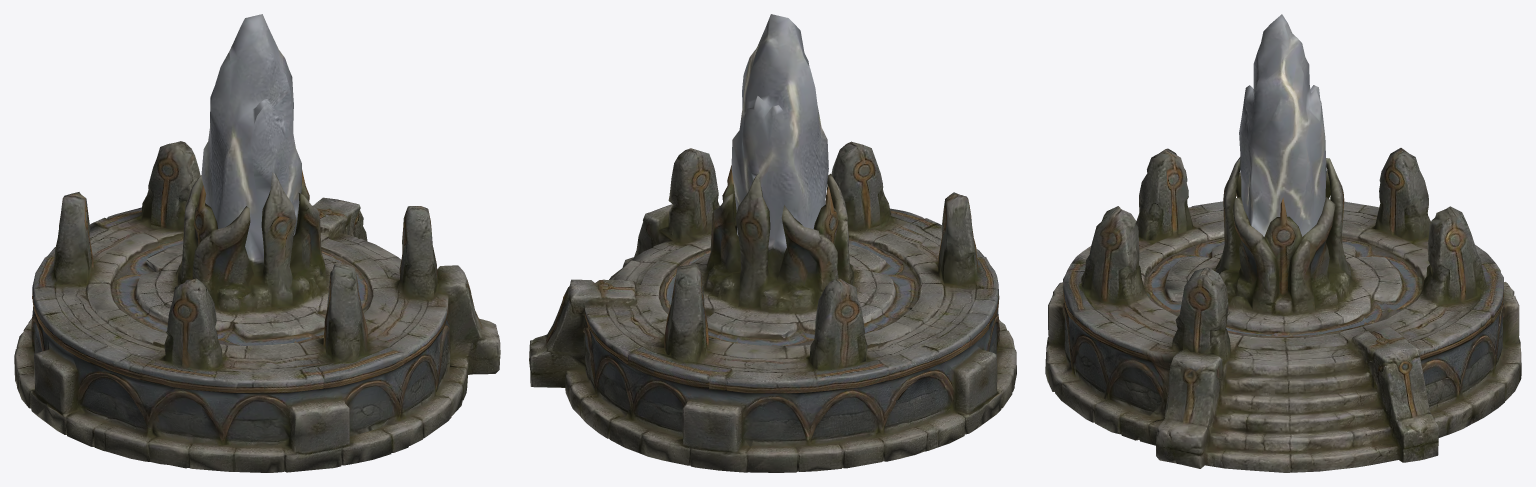
File: core.glb
3 renders of one model, left to right at view 1: azimuth 30°, elevation 25°; view 2: azimuth 150°, elevation 25°; view 3: azimuth 270°, elevation 25°, orthographic.
Visible parts, largest first — view 1: tripo_node_a87988b5-5f87-4639-9e3b-2fad120d6426; view 2: tripo_node_a87988b5-5f87-4639-9e3b-2fad120d6426; view 3: tripo_node_a87988b5-5f87-4639-9e3b-2fad120d6426.
Boxes of the visible parts, x1,y1,x2,y2 form: tripo_node_a87988b5-5f87-4639-9e3b-2fad120d6426: (14, 14, 500, 472); tripo_node_a87988b5-5f87-4639-9e3b-2fad120d6426: (529, 14, 1016, 472); tripo_node_a87988b5-5f87-4639-9e3b-2fad120d6426: (1045, 14, 1521, 472).
Bounding box in the file's own units: 1.22 × 1 × 1.22.
Materials: 1 (1 with a texture image).
